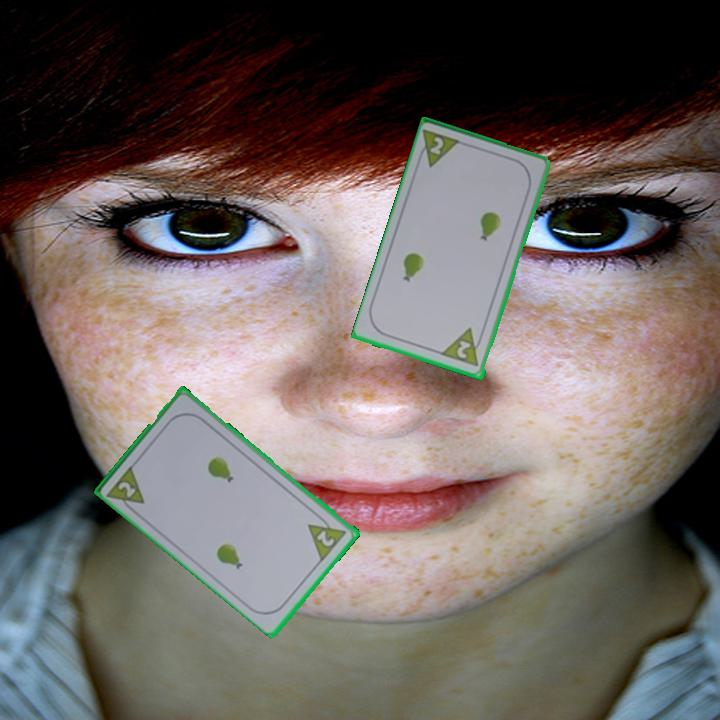2p: (304, 510, 350, 564), (104, 461, 148, 517), (414, 126, 465, 171), (440, 325, 487, 370)
